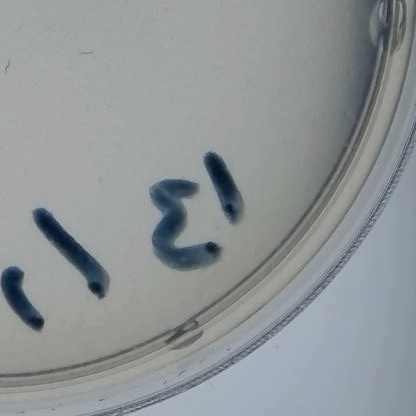worm: (66, 43, 96, 67), (107, 0, 130, 18), (0, 54, 12, 79)
